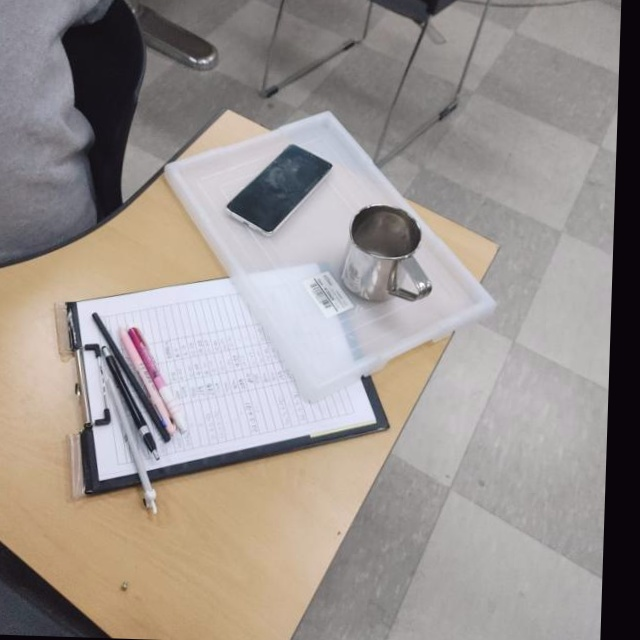cup: (342, 202, 435, 309)
phone: (224, 139, 334, 242)
